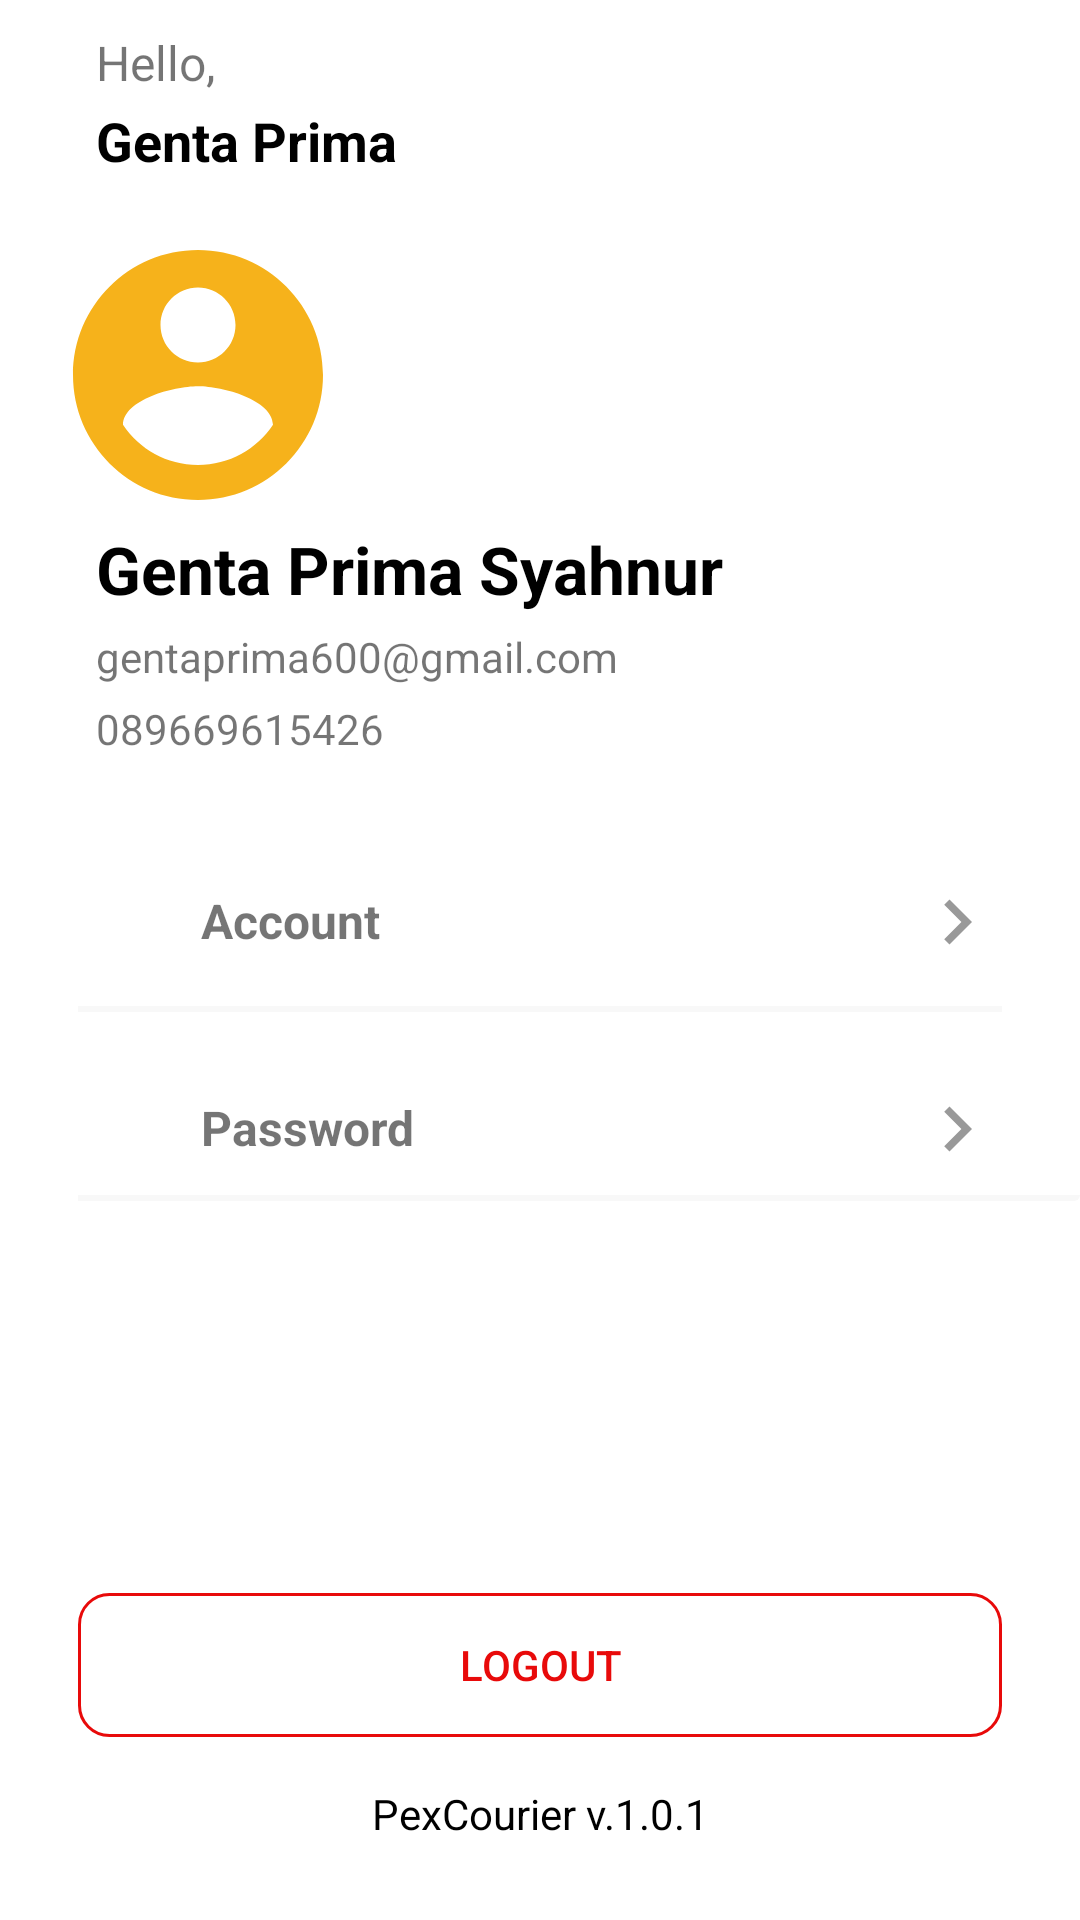

Point at icon controls on the screen. Image size 1080px x 1920px, points as point (x, y).
account circle: point (198, 375)
keyboard arrow right: point (958, 922), point (958, 1129)
